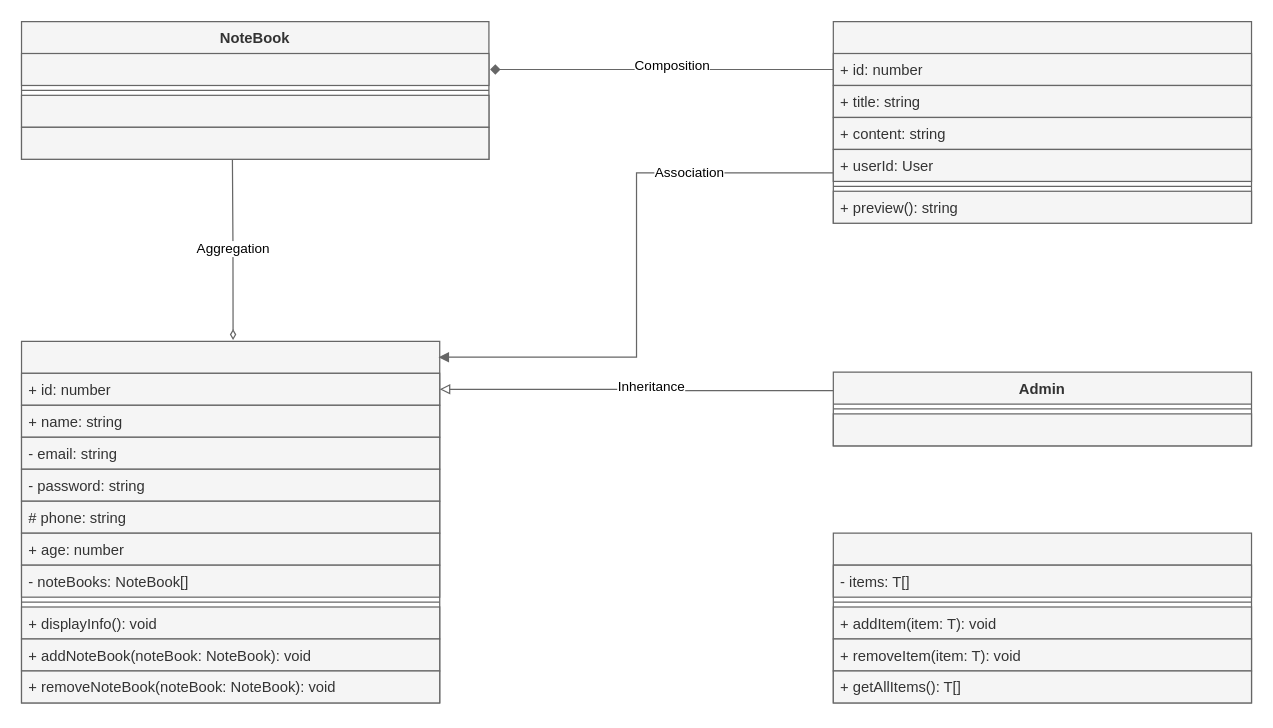
This 1273x728 diagram has some shape labels left out. Here are the shapes that lost their labels. From the top down, the box of each, then its label:
(20, 52, 489, 85): + notes: Note[]
(20, 94, 489, 127): + addNote(id: number, title: string, content: string, user: User): void
(832, 20, 1252, 223): Note
(20, 126, 489, 159): + removeNote(noteId: number): void
(832, 413, 1252, 446): + manageNotes(): void
(20, 340, 440, 703): User
(832, 532, 1252, 703): Storage<T>
